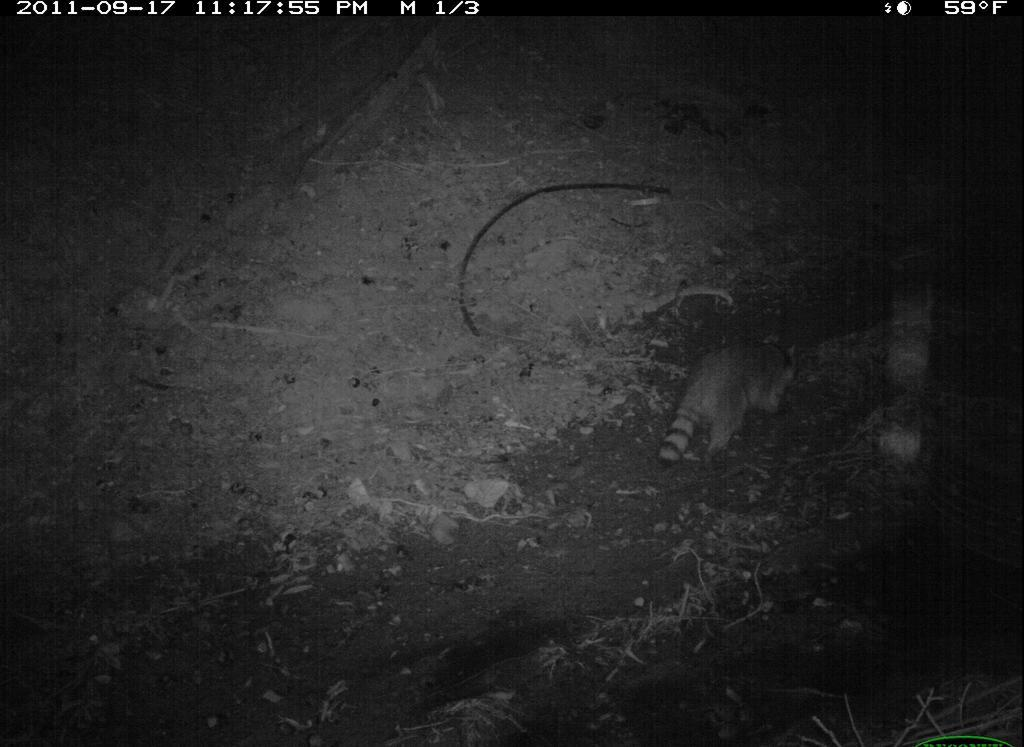raccoon: (644, 321, 813, 489)
